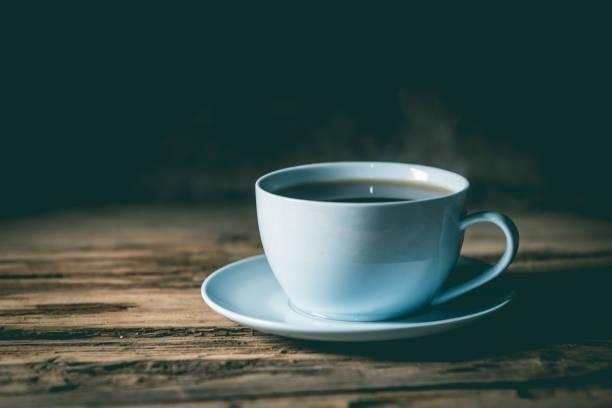cup-handle: (254, 159, 520, 322)
